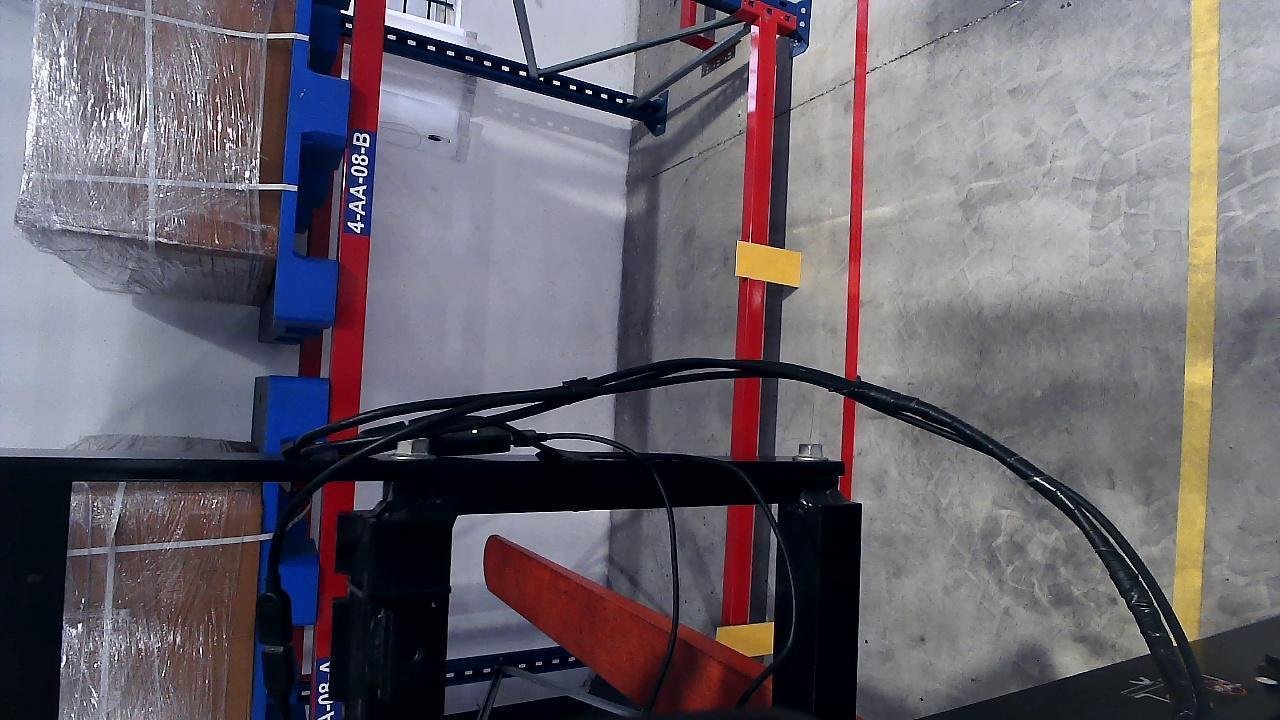red_line: (838, 0, 868, 496)
yellow_line: (1167, 0, 1220, 658)
